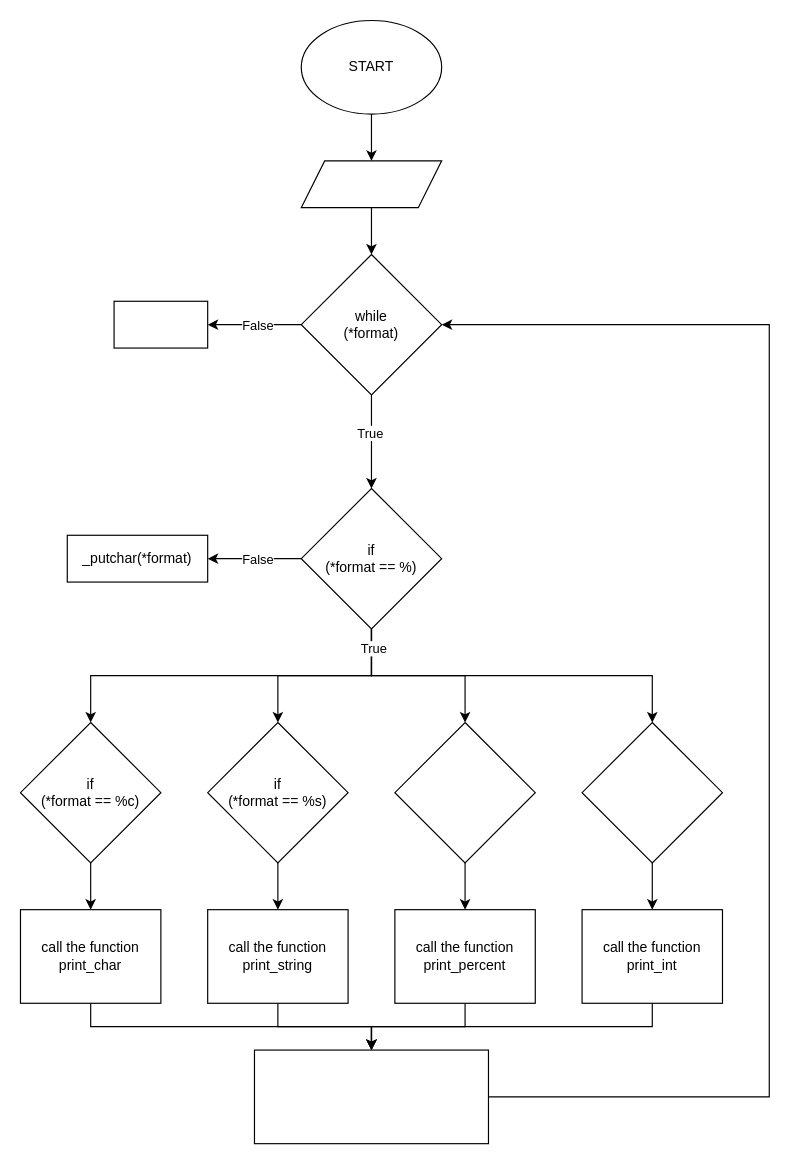
This 799x1164 diagram has some shape labels left out. The shapes that lost their labels are listed below. From the top down, each one's centre as x and y in pixels, then its label:
At (371,184): "Enter args".
At (160,324): "STOP".
At (464,792): "if (*format == %%)".
At (651,792): "if (*format == %d) or (*format == %i)".
At (370,1096): "Output and r eturn the number of characters printed".
